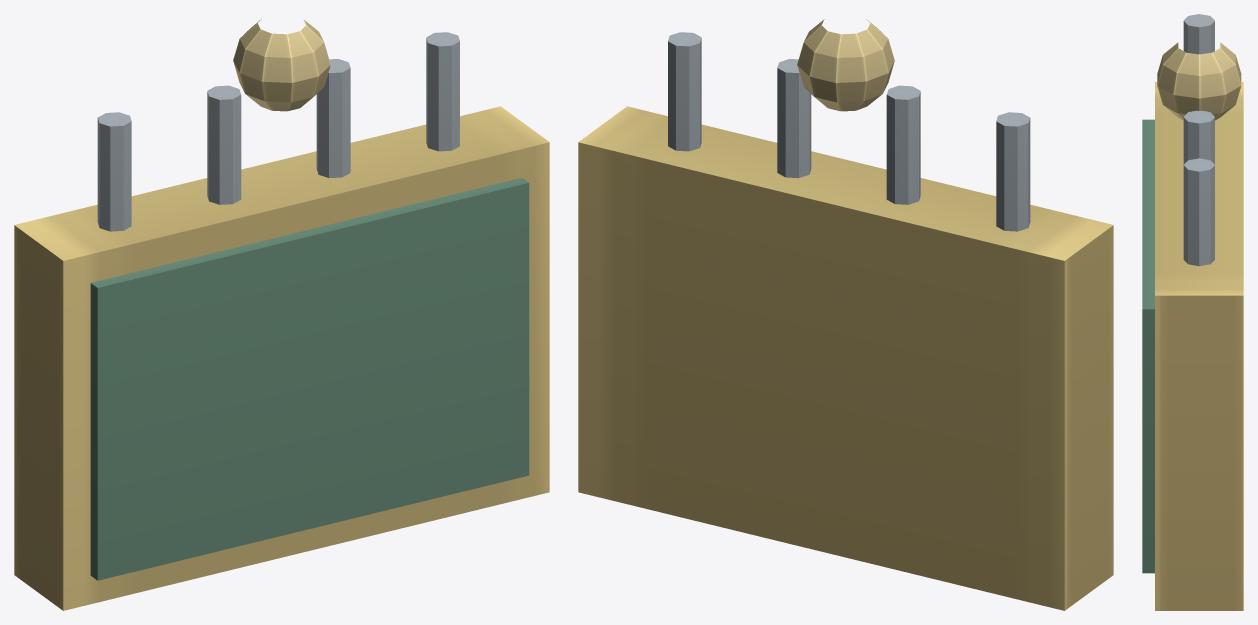
Rendered from lamp_hanging.glb.
The picture shows the model from 3 angles, left to right: view 1: azimuth 30°, elevation 25°; view 2: azimuth 150°, elevation 25°; view 3: azimuth 270°, elevation 25°; orthographic projection. The views are drawn at different scales.
Parts seen in each view (by area): view 1: lamp_hanging; view 2: lamp_hanging; view 3: lamp_hanging.
Boxes of the visible parts, bbox=[...] form: lamp_hanging: bbox=[14, 19, 549, 610]; lamp_hanging: bbox=[578, 19, 1113, 610]; lamp_hanging: bbox=[1142, 14, 1243, 610].
Size of the model in its own units: 1.6 by 1.62 by 0.32.
Materials: 1 (1 with a texture image).
